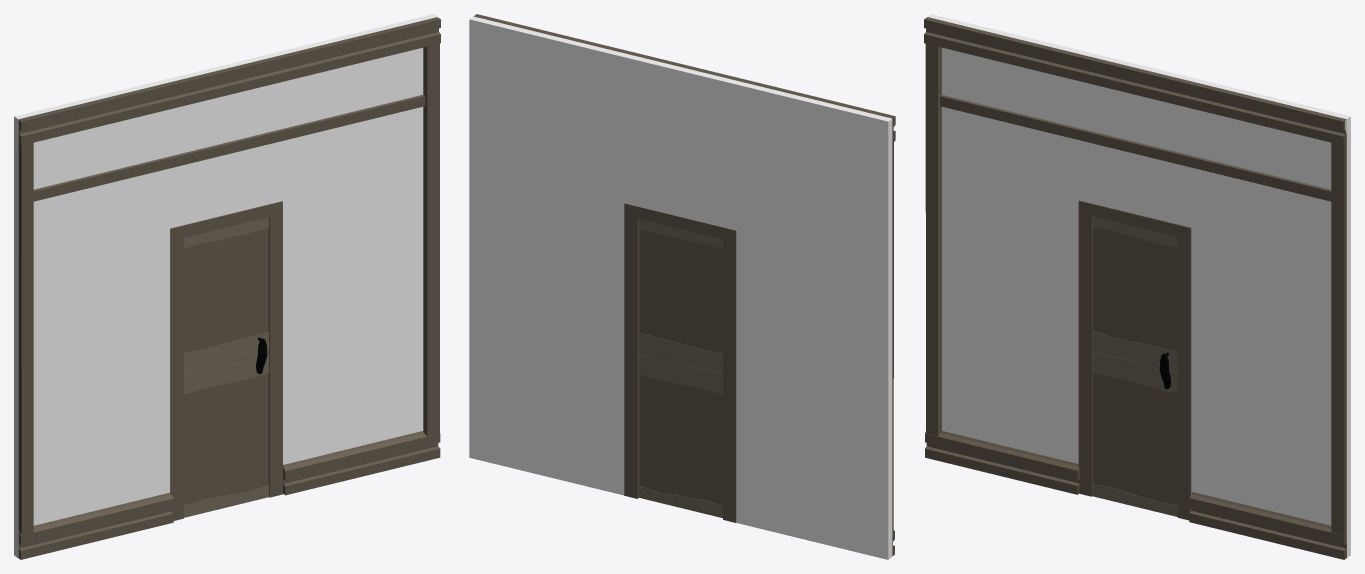
File: DOOR_05_1.fbx
3 renders of one model, left to right at view 1: azimuth 30°, elevation 25°; view 2: azimuth 150°, elevation 25°; view 3: azimuth 330°, elevation 25°, orthographic.
Visible parts, largest first — view 1: DOOR_05_1; view 2: DOOR_05_1; view 3: DOOR_05_1.
Part boxes in pixels (x1=…): DOOR_05_1: x1=14, y1=14, x2=440, y2=559; DOOR_05_1: x1=469, y1=14, x2=895, y2=559; DOOR_05_1: x1=924, y1=14, x2=1350, y2=559.
Size of the model in its own units: 300 by 300 by 10.82.
